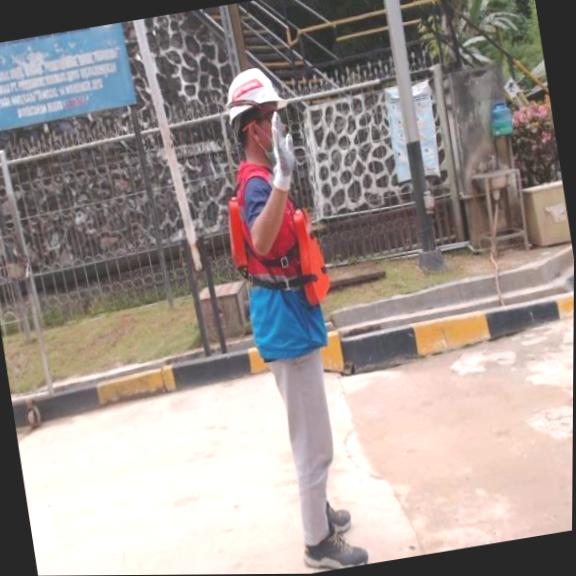safety_vest: (219, 182, 335, 318)
